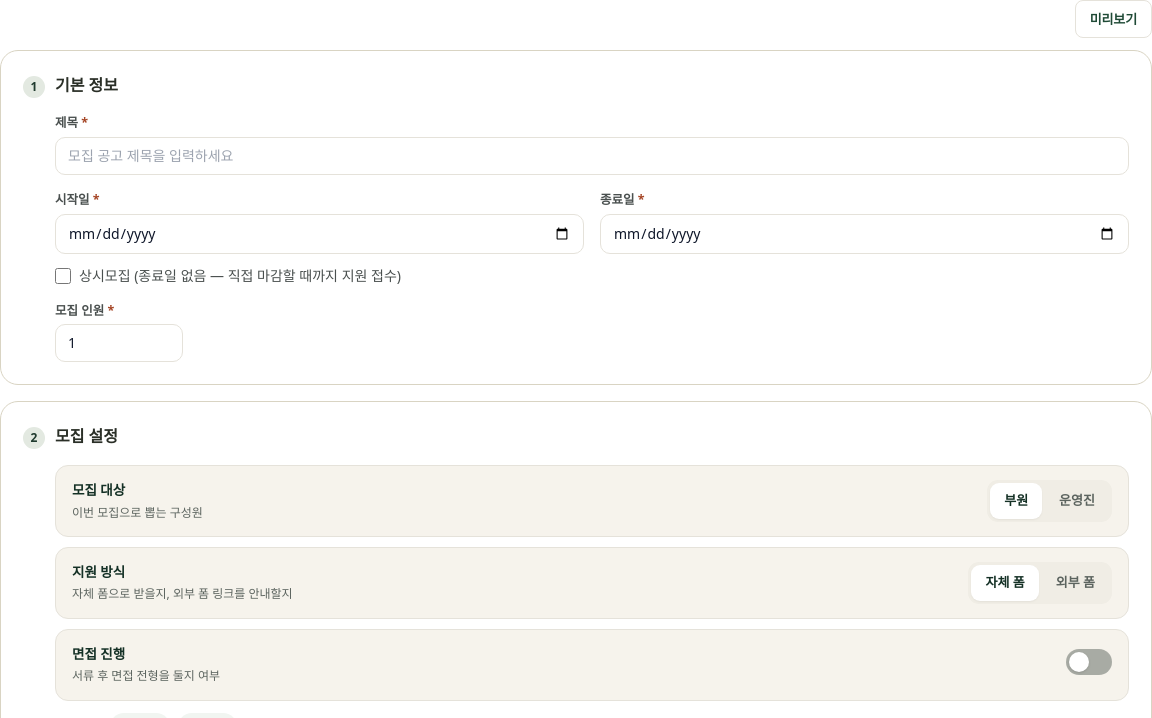
Test: RecruitmentForm — 외부 폼 전환 확인 다이얼로그 › 외부 폼을 고르면 즉시 전환하지 않고 안내 항목과 회원 등록 절차가 담긴 다이얼로그를 띄운다
Click the radio button labelled "외부 폼" at coordinates (1075, 583), box [1042,565,1109,601]
(page scrolled)
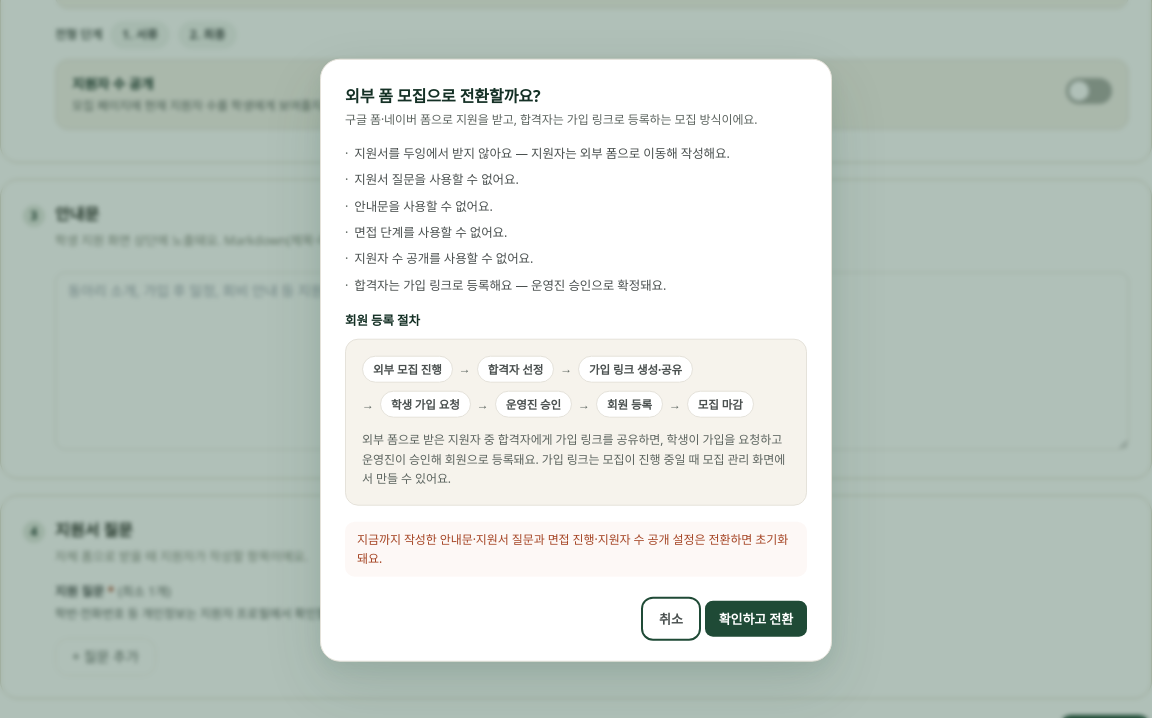
Now the dialog shows "외부 폼 모집으로 전환할까요?", box [345,85,540,107]
Now the dialog shows "지원서 질문", box [354,171,519,188]
Now the dialog shows "안내문", box [357,530,788,567]
